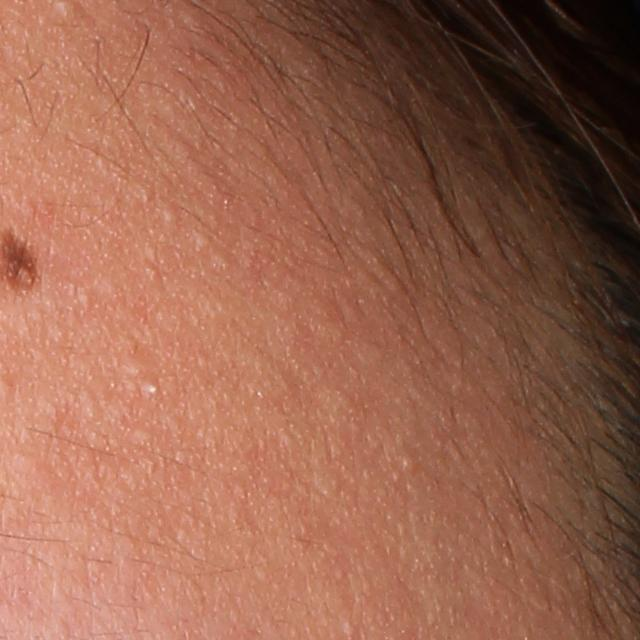comedo: (157, 203, 181, 225), (194, 229, 215, 252), (402, 451, 418, 474), (143, 380, 162, 398)
